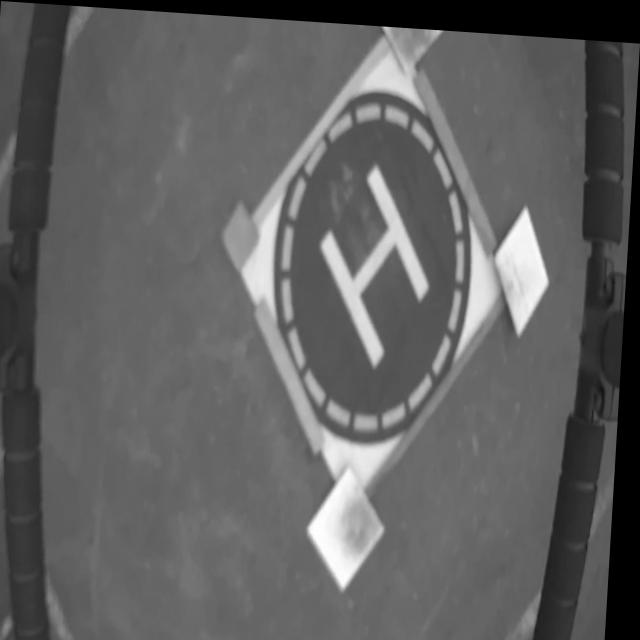Helipad: (321, 155, 433, 359)
